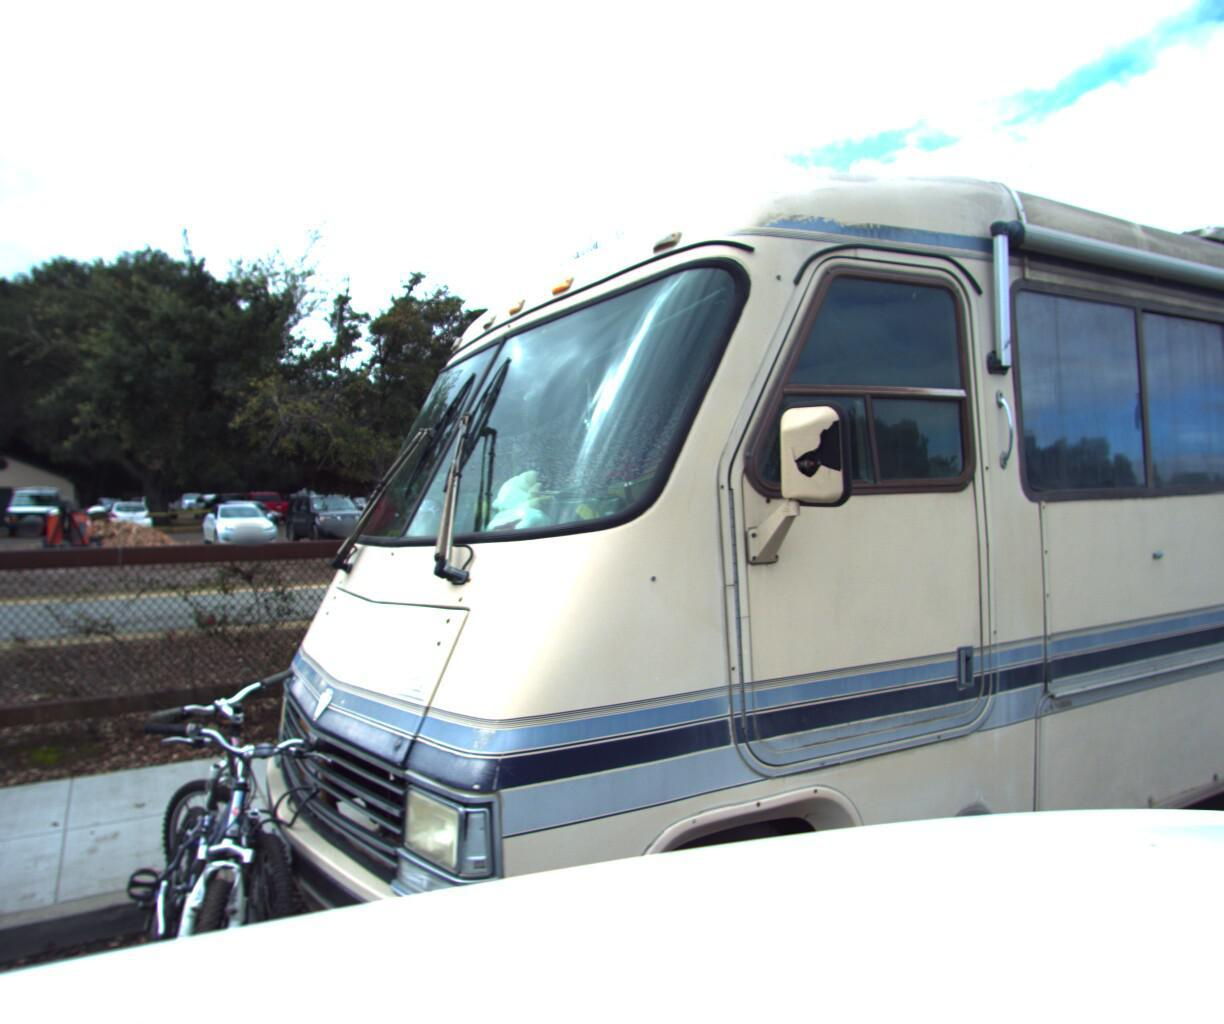other_vehicle: (203, 0, 1224, 1024)
